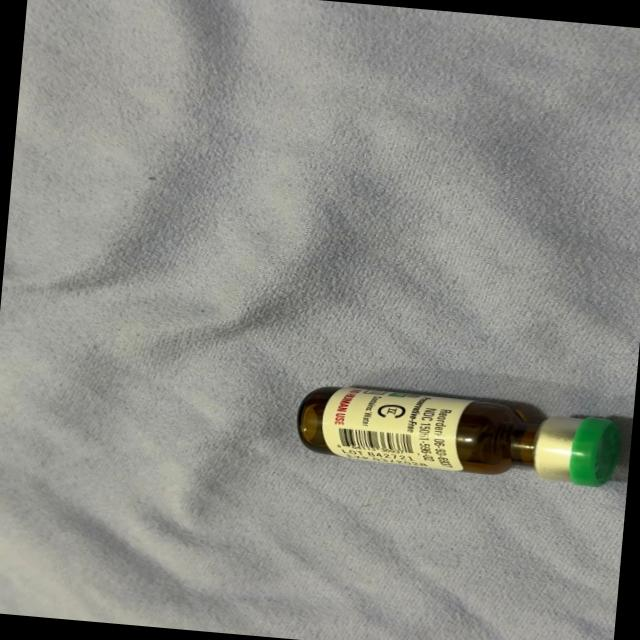midazolm: (298, 382, 618, 486)
